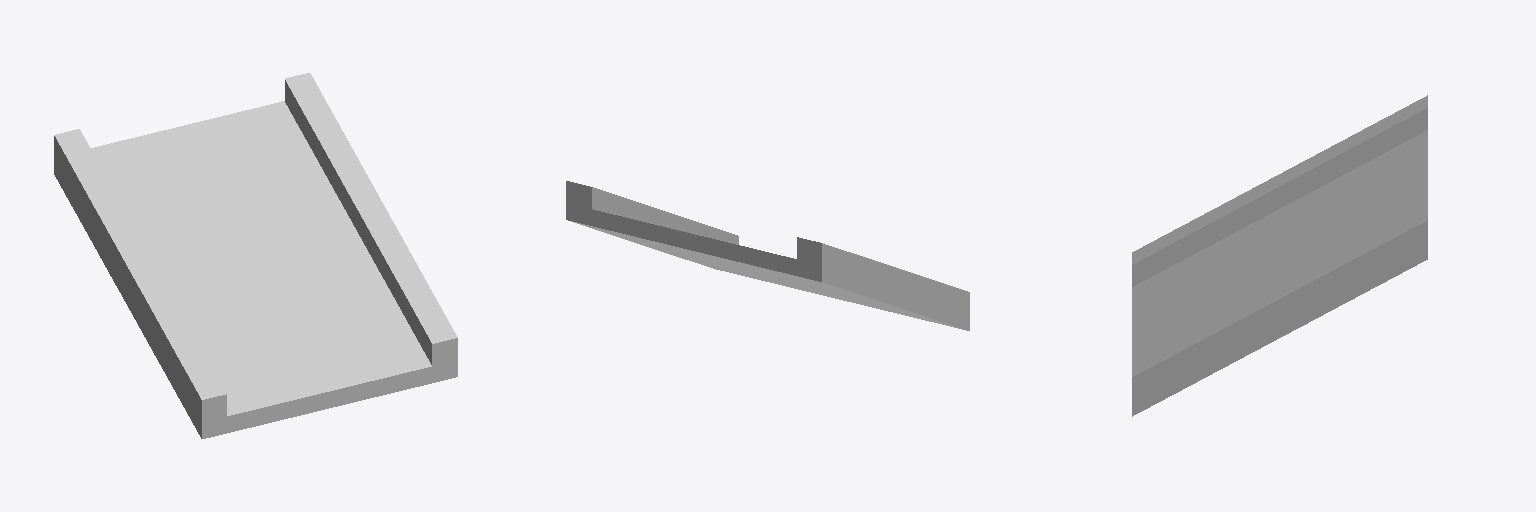
Rendered from Ramp_4_01.obj.
The picture shows the model from 3 angles: view 1: azimuth 30°, elevation 25°; view 2: azimuth 150°, elevation 25°; view 3: azimuth 270°, elevation 25°; orthographic projection.
Parts seen in each view (by area): view 1: Mesh1 Ramp_4 Model; view 2: Mesh1 Ramp_4 Model; view 3: Mesh1 Ramp_4 Model.
Boxes of the visible parts, <box> form: Mesh1 Ramp_4 Model: <box>54,73,457,438</box>; Mesh1 Ramp_4 Model: <box>566,181,969,330</box>; Mesh1 Ramp_4 Model: <box>1132,95,1427,416</box>.
Bounding box in the file's own units: 3 × 2.2 × 3.